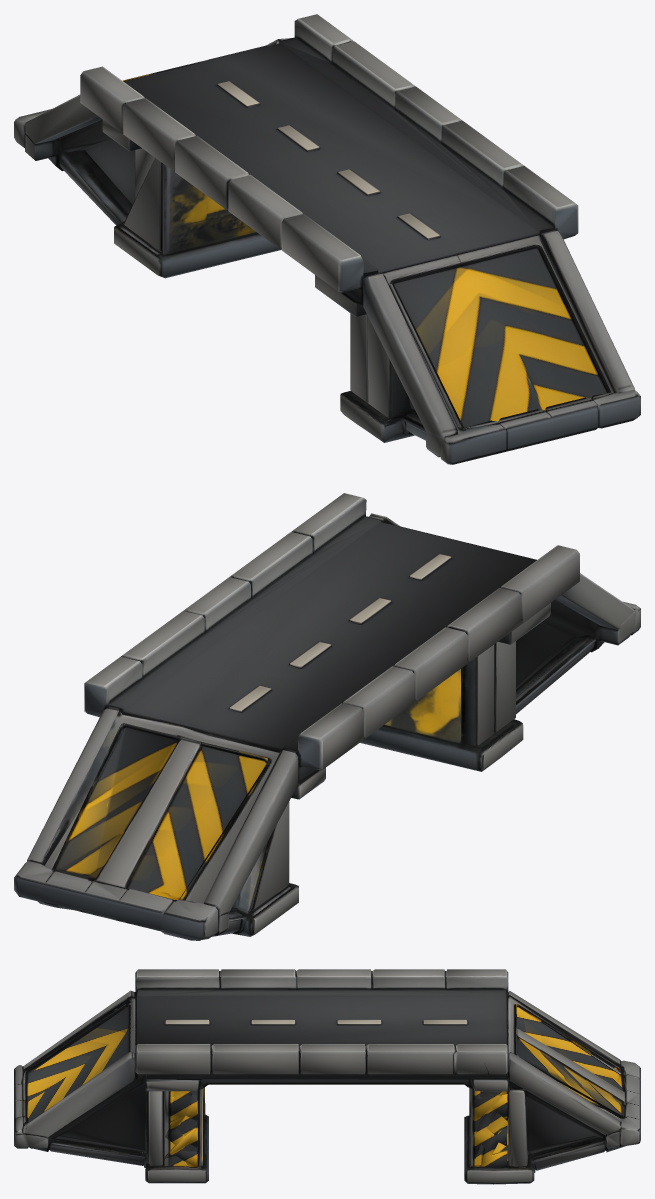
File: bridge.glb
3 renders of one model, top to bottom at view 1: azimuth 30°, elevation 25°; view 2: azimuth 150°, elevation 25°; view 3: azimuth 270°, elevation 25°, orthographic. The views are drawn at different scales.
Visible parts, largest first — view 1: tripo_node_dbe4be41-6500-4b1b-9095-a56bf0fe3a5a; view 2: tripo_node_dbe4be41-6500-4b1b-9095-a56bf0fe3a5a; view 3: tripo_node_dbe4be41-6500-4b1b-9095-a56bf0fe3a5a.
Part boxes in pixels (bbox=[...]): tripo_node_dbe4be41-6500-4b1b-9095-a56bf0fe3a5a: bbox=[14, 14, 640, 464]; tripo_node_dbe4be41-6500-4b1b-9095-a56bf0fe3a5a: bbox=[14, 493, 640, 940]; tripo_node_dbe4be41-6500-4b1b-9095-a56bf0fe3a5a: bbox=[14, 969, 640, 1184].
Size of the model in its own units: 7.24 by 5.8 by 22.98.
Materials: 1 (1 with a texture image).
